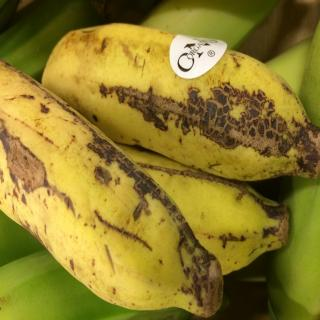Banana: (0, 57, 225, 319), (41, 22, 320, 184), (113, 142, 290, 276)
